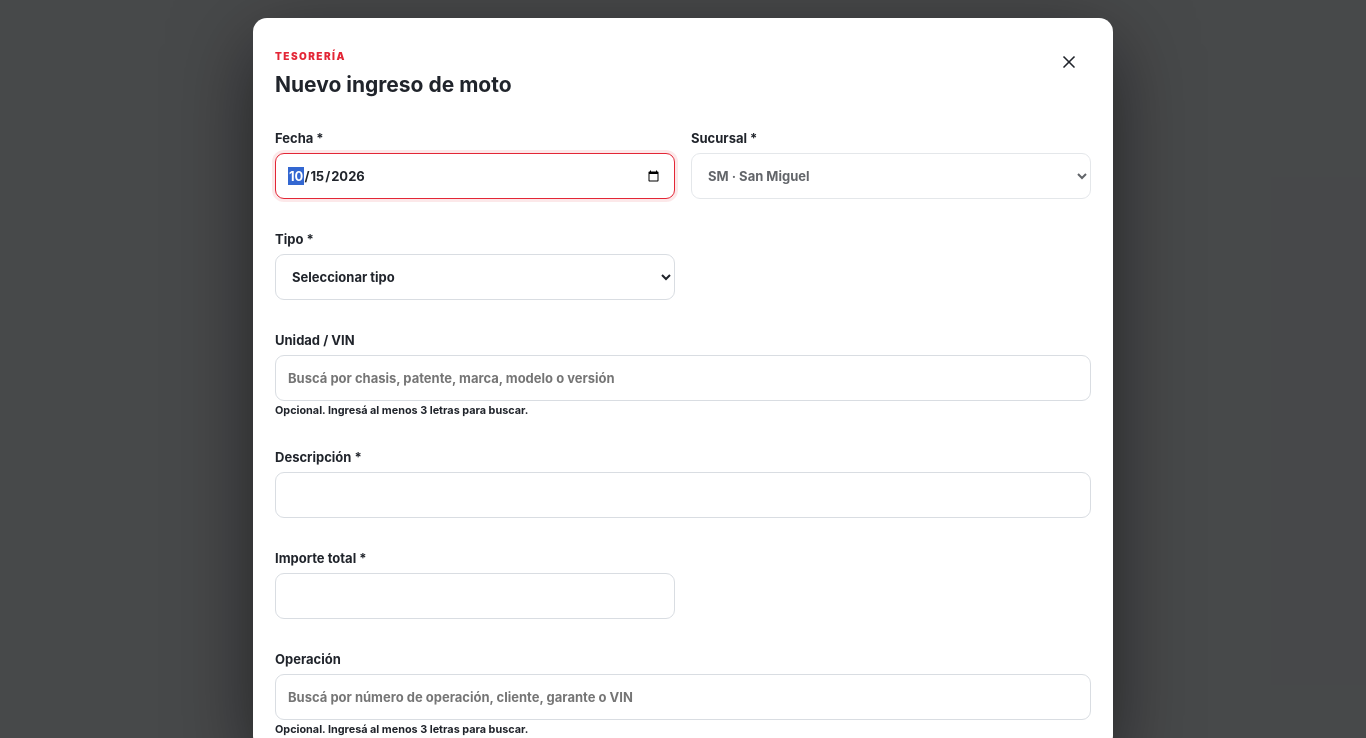
Test: Alta de ingreso con medio, cobrador y rendición › si quien recibe no tiene caja no guarda y explica qué hacer
Select "Seña" in the dropdown labelled "Tipo *" at coordinates (475, 277), box [275,254,675,300]
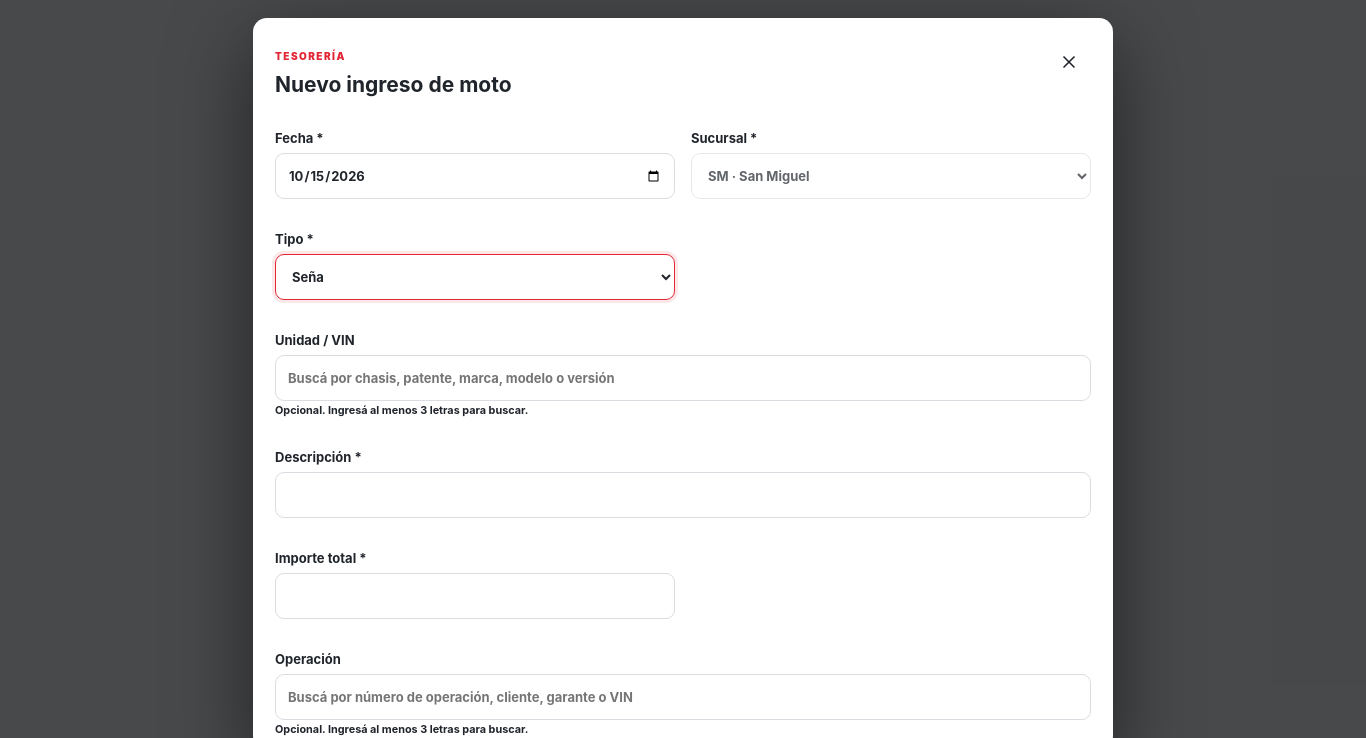
Type "Seña moto" into the field labelled "Descripción *".
click(683, 495); type("Seña moto")  # box [275,472,1091,518]
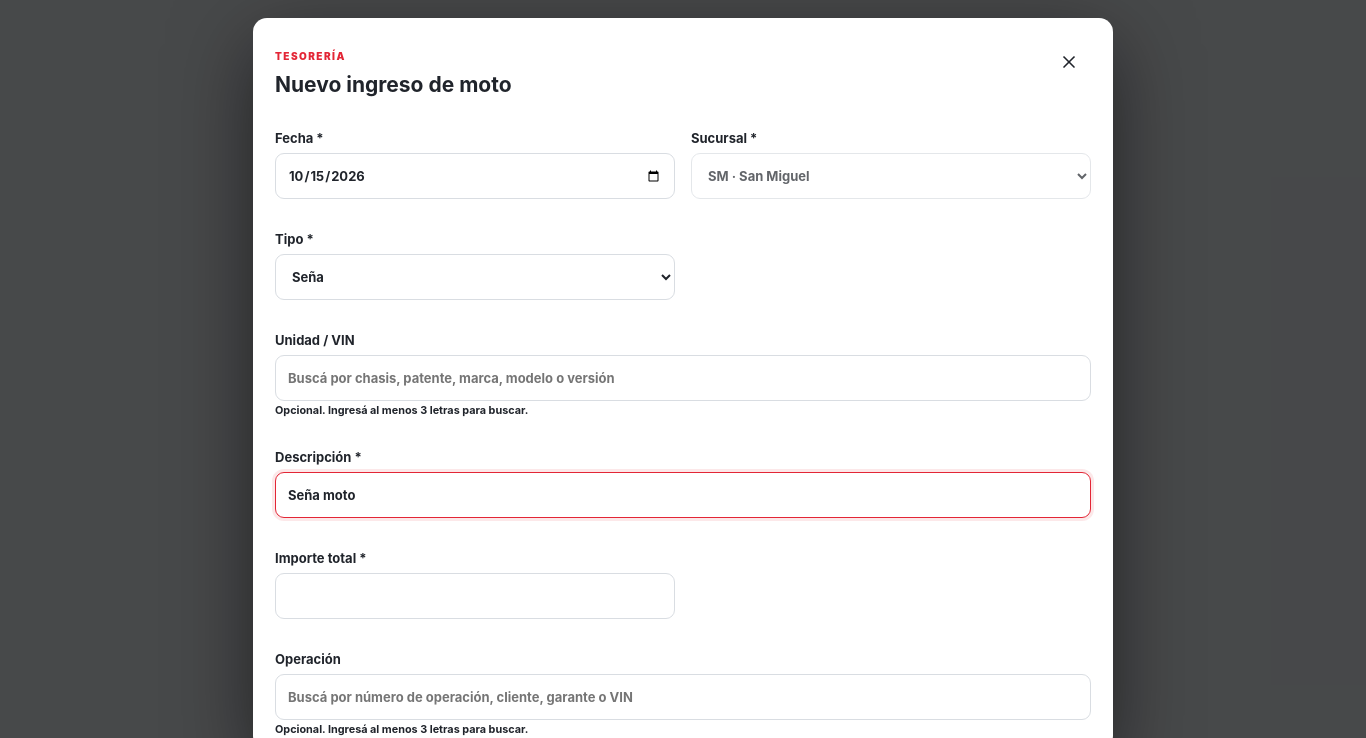
Type "150000" into the number field labelled "Importe total *".
click(475, 596); type("150000")  # box [275,573,675,619]
(page scrolled)
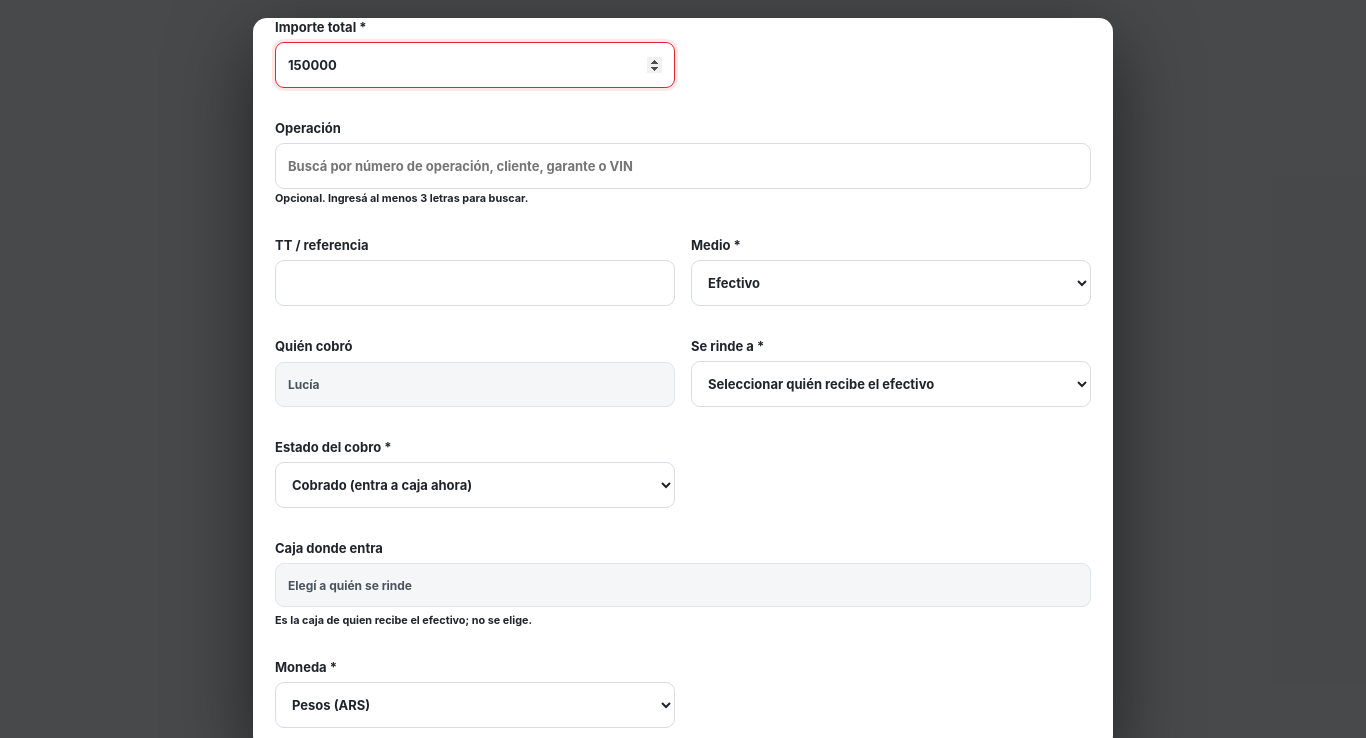
Select "Nicolás" in the dropdown labelled "Se rinde a *" at coordinates (891, 384), box [691,361,1091,407]
(page scrolled)
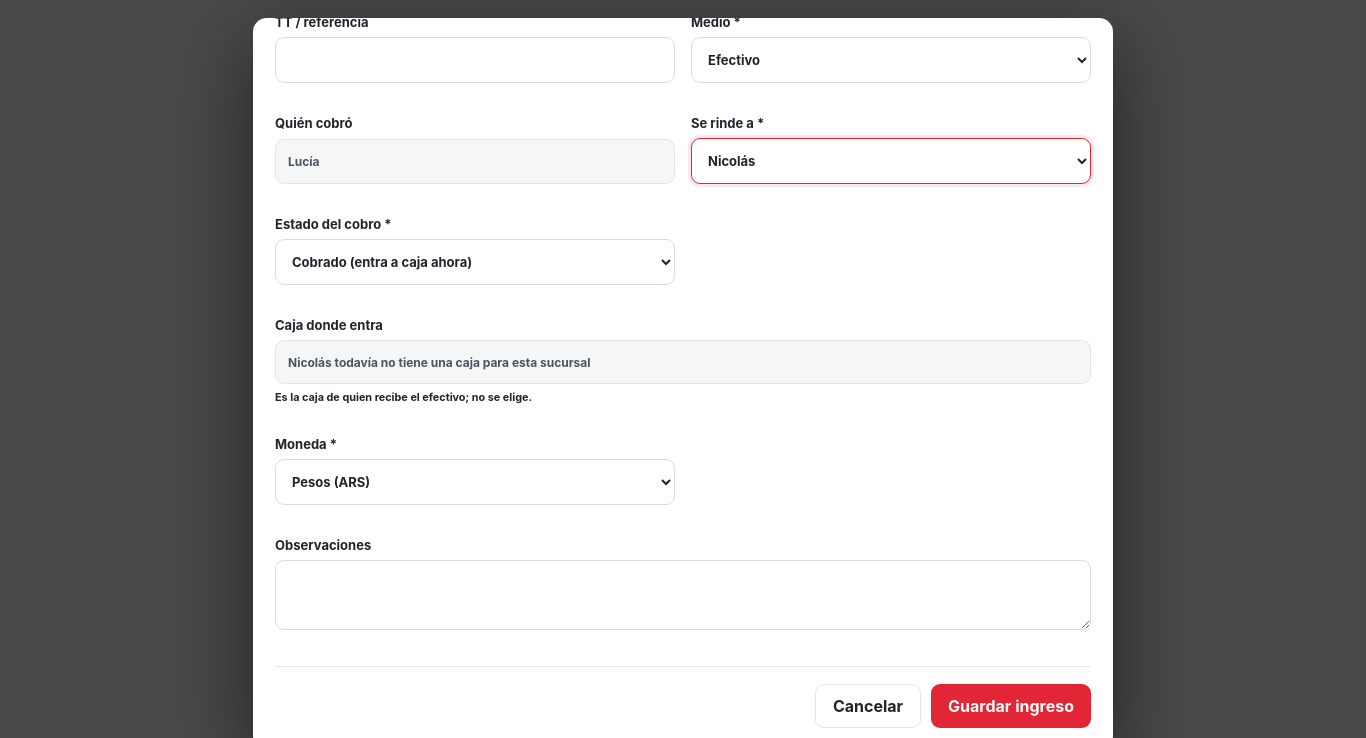
Check: the text named "Caja donde entra" shows "Nicolás todavía no tiene una caja", box [288,354,591,370]
Click the button "Guardar ingreso".
click(1011, 706)  # box [931,684,1091,728]
(page scrolled)
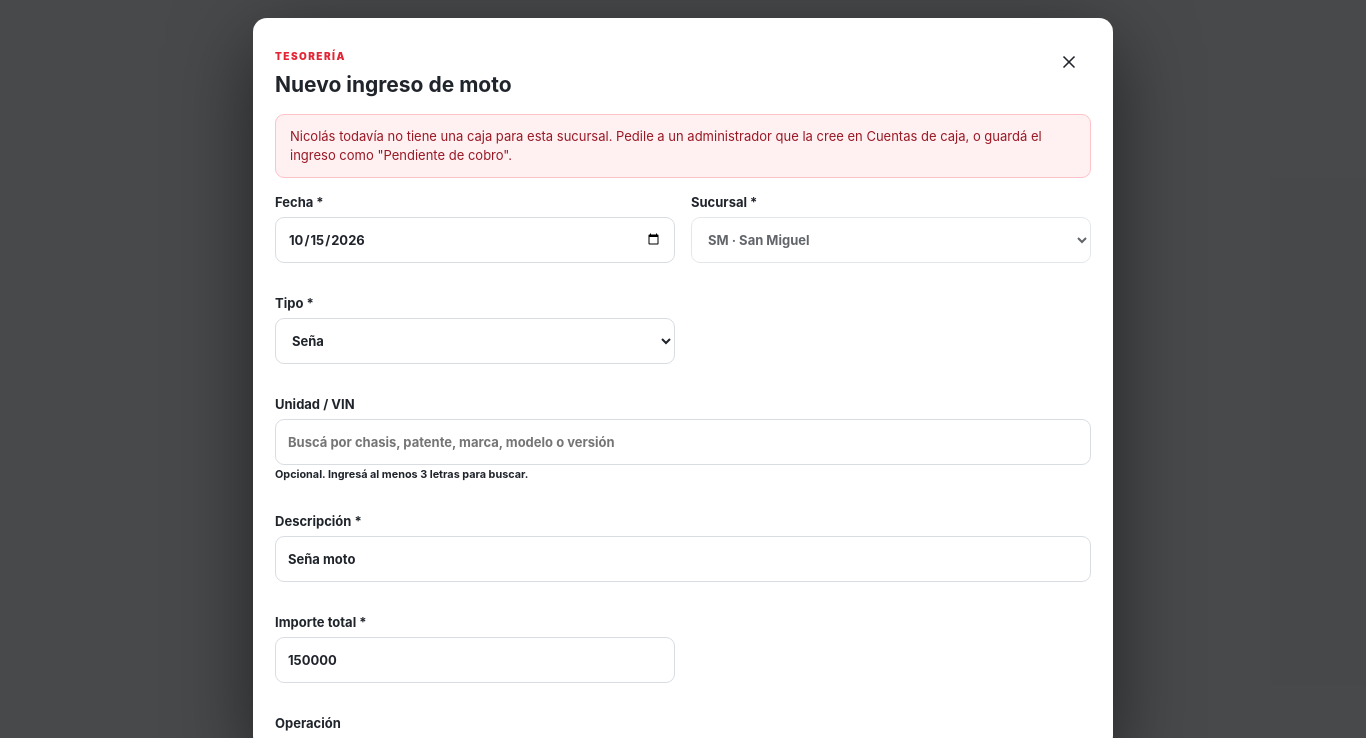
Check: the message shows "Cuentas de caja", box [290,128,1042,163]
